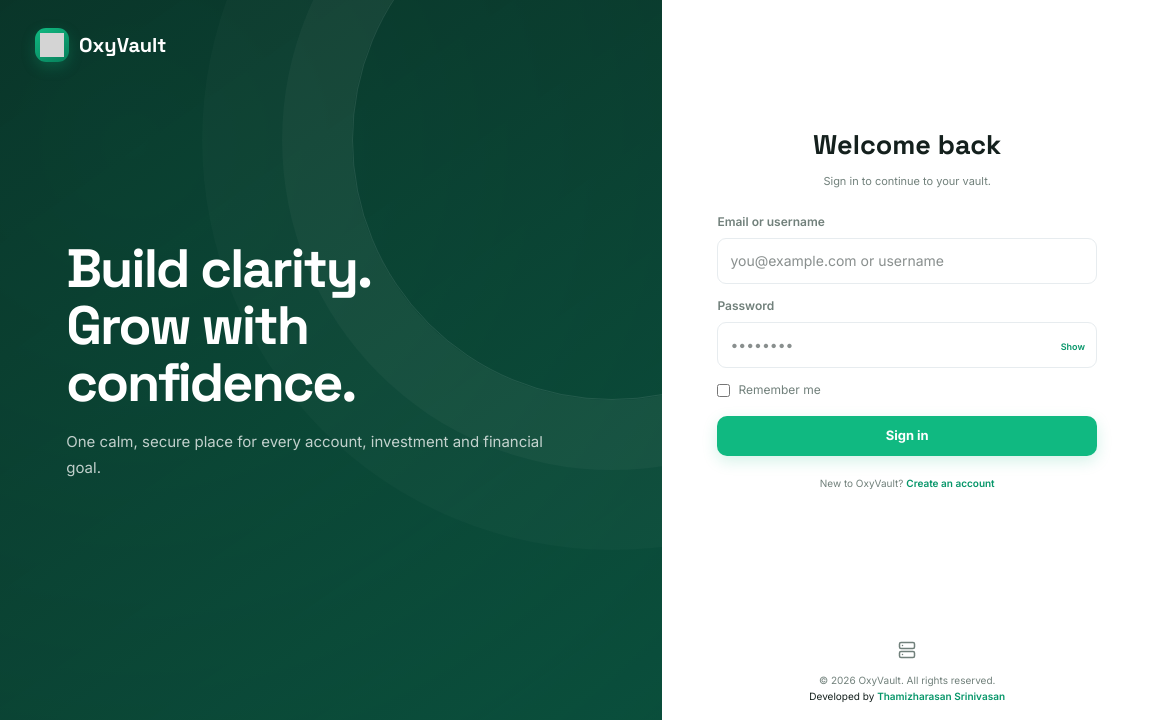
LoginPage › links to the registration page
The image size is (1152, 720).
Click the link "Create an account" at (950, 482), box [906,476,995,488]
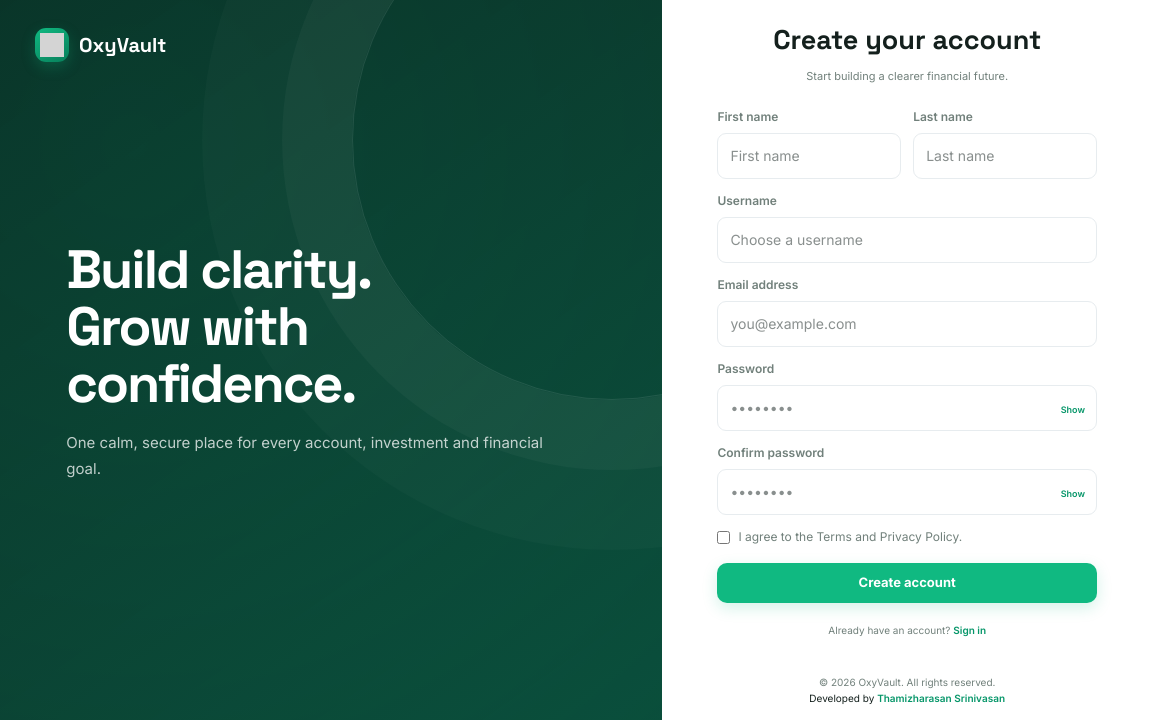
Result: the heading "Create your account" is shown at [773,22,1041,57]
